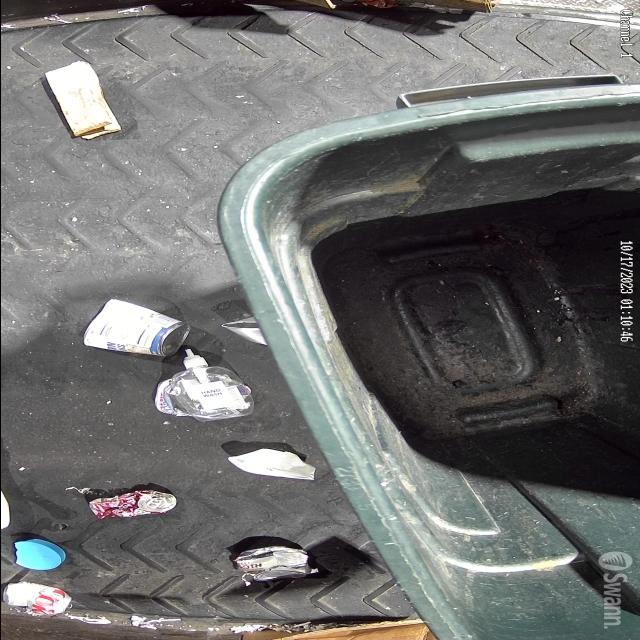can: (84, 298, 190, 356), (86, 490, 176, 520), (2, 582, 74, 619), (232, 547, 310, 581), (222, 315, 264, 344)
